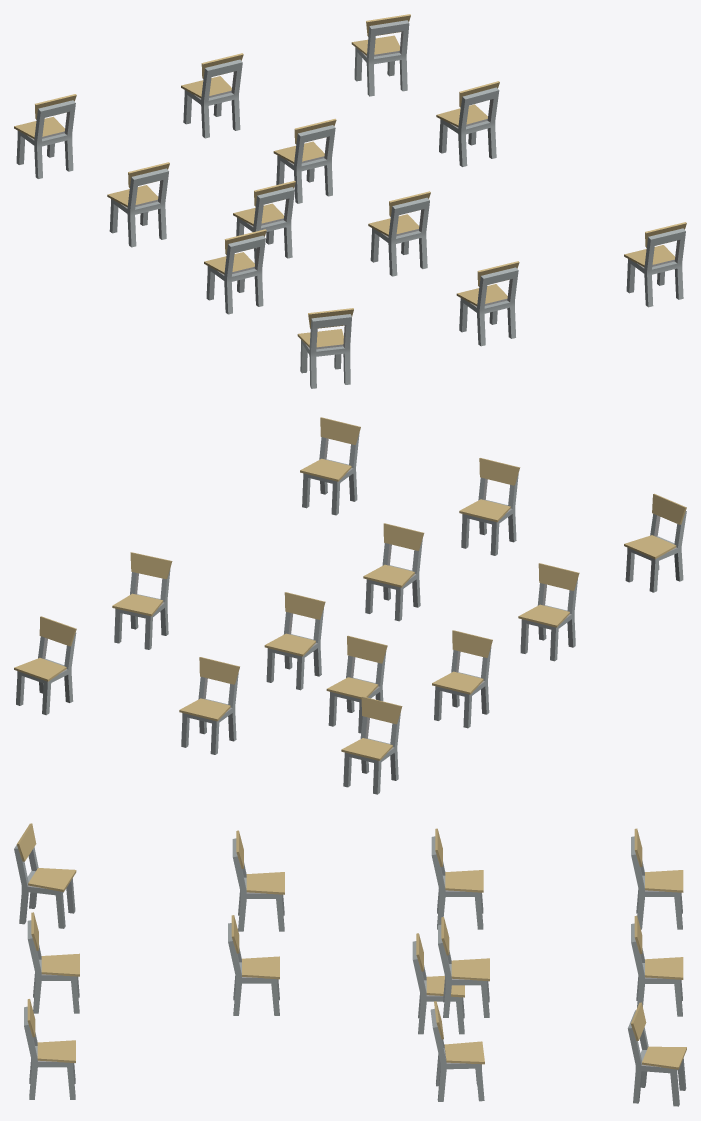
Rendered from chair.fbx.
3 renders of one model, top to bottom at view 1: azimuth 30°, elevation 25°; view 2: azimuth 150°, elevation 25°; view 3: azimuth 270°, elevation 25°, orthographic. The views are drawn at different scales.
Visible parts, largest first — view 1: pCube242, pCube15, pCube236, pCube240, pCube243, pCube245, pCube244, pCube239, pCube237, pCube238, pCube246, pCube241; view 2: pCube15, pCube236, pCube240, pCube242, pCube239, pCube244, pCube245, pCube238, pCube243, pCube237, pCube246, pCube241; view 3: pCube246, pCube237, pCube242, pCube243, pCube238, pCube245, pCube240, pCube239, pCube15, pCube244, pCube236, pCube241.
Boxes of the visible parts, <box> form: pCube242: <box>456,261,519,346</box>; pCube15: <box>14,94,76,178</box>; pCube236: <box>181,53,243,138</box>; pCube240: <box>368,191,430,276</box>; pCube243: <box>624,222,686,307</box>; pCube245: <box>204,229,266,314</box>; pCube244: <box>107,162,169,247</box>; pCube239: <box>436,81,499,166</box>; pCube237: <box>351,14,410,96</box>; pCube238: <box>273,118,336,203</box>; pCube246: <box>297,308,353,388</box>; pCube241: <box>233,180,295,263</box>; pCube15: <box>341,696,402,794</box>; pCube236: <box>179,657,239,754</box>; pCube240: <box>363,523,424,621</box>; pCube242: <box>459,458,520,555</box>; pCube239: <box>112,552,172,649</box>; pCube244: <box>432,630,492,728</box>; pCube245: <box>518,563,579,661</box>; pCube238: <box>264,592,325,690</box>; pCube243: <box>300,417,360,515</box>; pCube237: <box>14,616,76,715</box>; pCube246: <box>624,493,686,592</box>; pCube241: <box>326,635,387,733</box>; pCube246: <box>14,823,76,928</box>; pCube237: <box>627,1002,686,1106</box>; pCube242: <box>27,912,79,1013</box>; pCube243: <box>24,999,75,1099</box>; pCube238: <box>438,917,489,1017</box>; pCube245: <box>232,830,284,931</box>; pCube240: <box>228,915,279,1015</box>; pCube239: <box>430,1001,484,1101</box>; pCube15: <box>631,828,683,929</box>; pCube244: <box>431,828,483,929</box>; pCube236: <box>631,915,683,1016</box>; pCube241: <box>412,933,464,1034</box>.
Bounding box in the file's own units: 0.000482 × 0.000138 × 0.000675.
